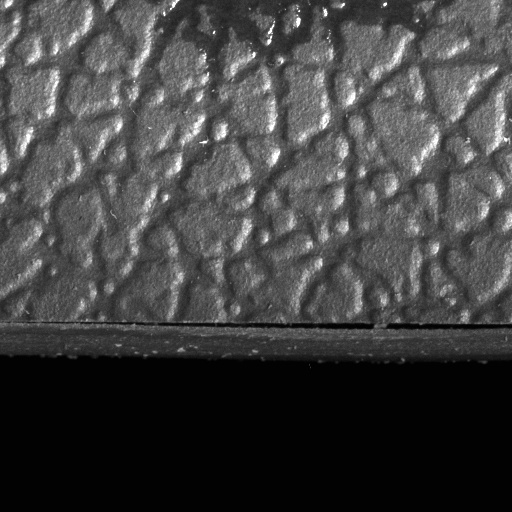jiaofeng: (121, 317, 375, 343), (382, 318, 511, 343)
